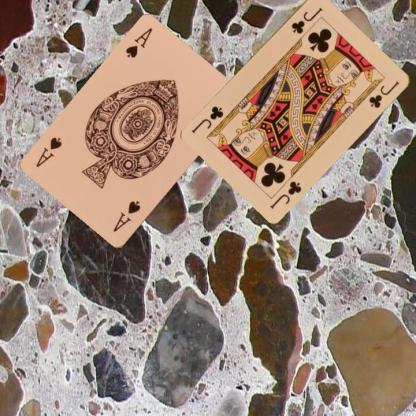As: (110, 198, 142, 234), (122, 26, 154, 60)
Jc: (267, 178, 303, 210), (289, 5, 324, 35)
